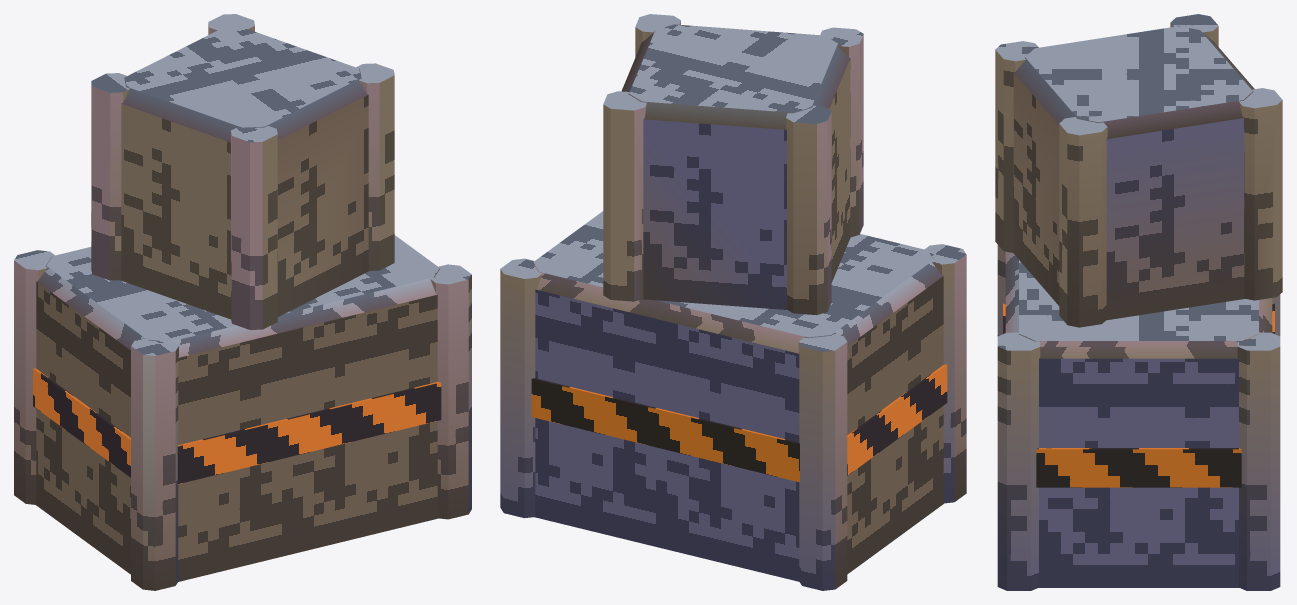
Rendered from tech.crate__stack.glb.
The picture shows the model from 3 angles, left to right: view 1: azimuth 30°, elevation 25°; view 2: azimuth 150°, elevation 25°; view 3: azimuth 270°, elevation 25°; orthographic projection. The views are drawn at different scales.
Visible parts, largest first — view 1: kit_box, kit_box_top, kit_corners, kit_corners_top, kit_band; view 2: kit_box, kit_box_top, kit_corners, kit_corners_top, kit_band; view 3: kit_box_top, kit_box, kit_corners_top, kit_corners, kit_band.
Boxes of the visible parts, x1,y1,x2,y2 form: kit_box: [36, 235, 440, 581]; kit_box_top: [121, 27, 368, 319]; kit_corners: [14, 250, 471, 590]; kit_corners_top: [91, 14, 394, 329]; kit_band: [33, 368, 441, 484]; kit_box: [532, 211, 943, 581]; kit_box_top: [621, 24, 850, 309]; kit_corners: [500, 244, 966, 590]; kit_corners_top: [603, 14, 863, 315]; kit_band: [531, 364, 947, 482]; kit_box_top: [1013, 26, 1254, 320]; kit_box: [1005, 251, 1272, 587]; kit_corners_top: [995, 14, 1282, 327]; kit_corners: [997, 245, 1280, 590]; kit_band: [1003, 303, 1274, 487].
Bounding box in the file's own units: 1.46 × 1.8 × 1.08.
3 materials, 3 textured.
